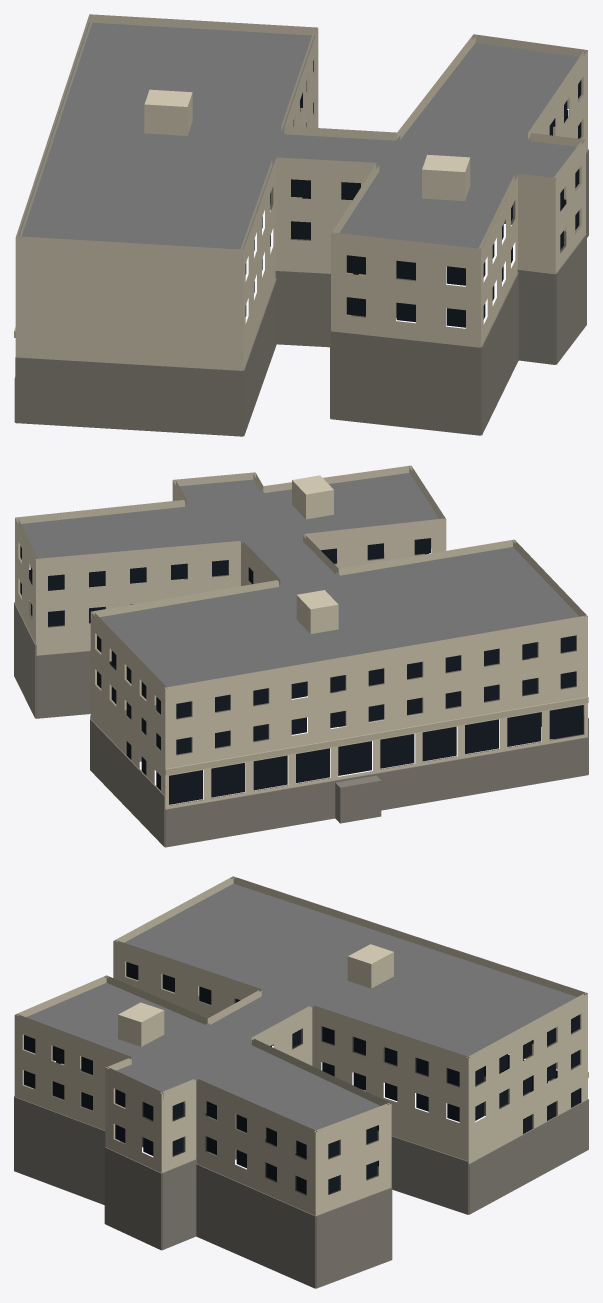
File: nakhimova19.lod.glb
3 views of the same model, one above another, from view 1: azimuth 30°, elevation 25°; view 2: azimuth 150°, elevation 25°; view 3: azimuth 270°, elevation 25° (orthographic). The views are drawn at different scales.
Parts seen in each view (by area): view 1: nakhimova19_wall, nakhimova19_roof, nakhimova19_stone, nakhimova19_glass; view 2: nakhimova19_wall, nakhimova19_roof, nakhimova19_stone, nakhimova19_glass, nakhimova19_wall2; view 3: nakhimova19_wall, nakhimova19_roof, nakhimova19_stone, nakhimova19_glass.
Part boxes in pixels (<box>): nakhimova19_wall: <box>15,14,587,370</box>; nakhimova19_roof: <box>18,22,578,249</box>; nakhimova19_stone: <box>14,149,588,436</box>; nakhimova19_glass: <box>245,60,581,327</box>; nakhimova19_wall: <box>15,465,587,809</box>; nakhimova19_roof: <box>19,473,578,687</box>; nakhimova19_stone: <box>14,552,588,847</box>; nakhimova19_glass: <box>20,538,583,804</box>; nakhimova19_wall2: <box>165,696,588,775</box>; nakhimova19_wall: <box>14,876,587,1215</box>; nakhimova19_roof: <box>26,883,576,1130</box>; nakhimova19_stone: <box>14,995,588,1288</box>; nakhimova19_glass: <box>24,962,581,1194</box>.
Size of the model in its own units: 52.85 by 16.8 by 50.03.
